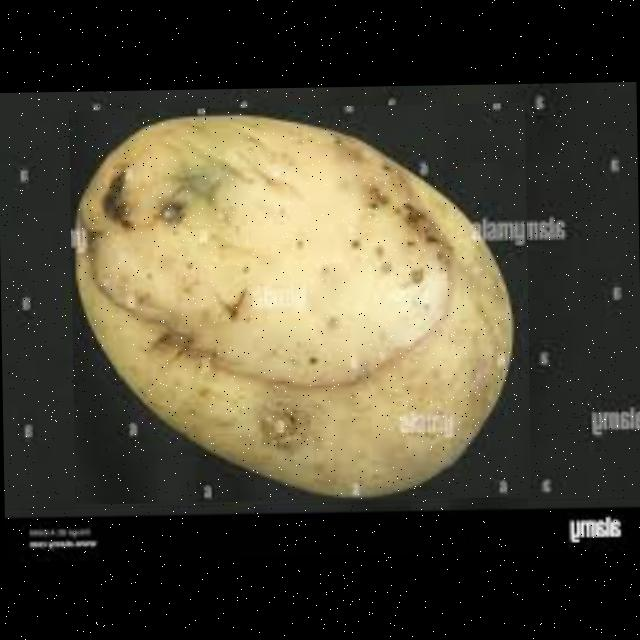Damaged potato: (67, 101, 530, 504)
